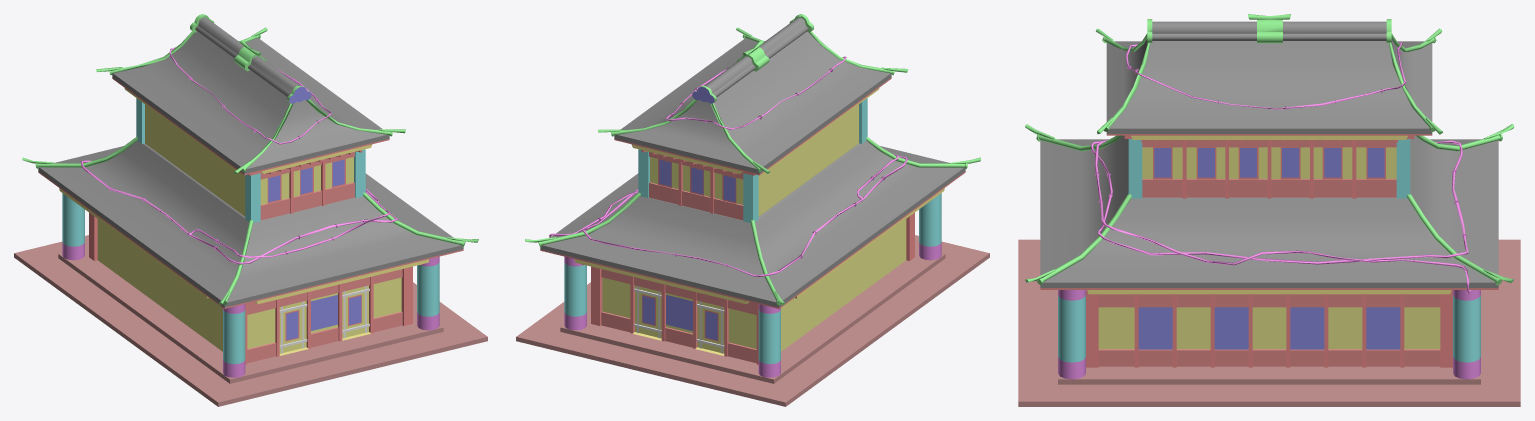
Rendered from SM_ENV_LKNVLD_Building_A_Lod2.gltf.
3 renders of one model, left to right at view 1: azimuth 30°, elevation 25°; view 2: azimuth 150°, elevation 25°; view 3: azimuth 270°, elevation 25°, orthographic. The views are drawn at different scales.
Parts seen in each view (by area): view 1: SM_ENV_LKNVLD_Building_A_Lod2; view 2: SM_ENV_LKNVLD_Building_A_Lod2; view 3: SM_ENV_LKNVLD_Building_A_Lod2.
Part boxes in pixels (left/top/right/bottom): SM_ENV_LKNVLD_Building_A_Lod2: left=14, top=14, right=487, bottom=406; SM_ENV_LKNVLD_Building_A_Lod2: left=516, top=14, right=989, bottom=406; SM_ENV_LKNVLD_Building_A_Lod2: left=1018, top=14, right=1520, bottom=406.
Bounding box in the file's own units: 19.3 × 17.3 × 25.3.
